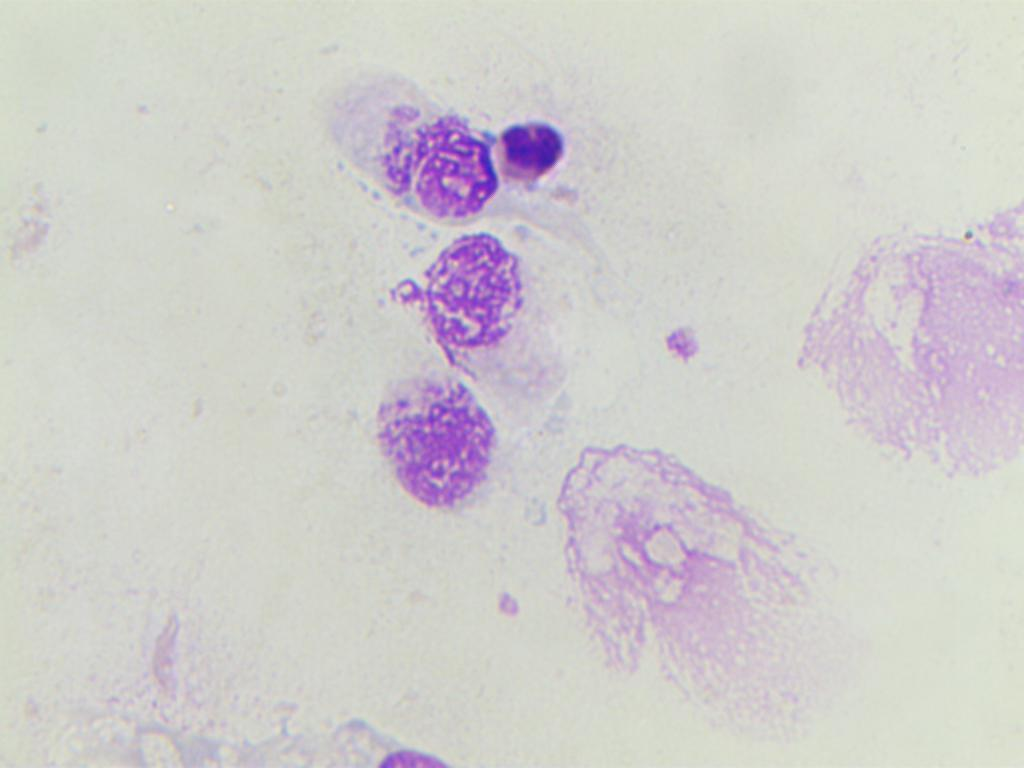epithelial: (386, 223, 579, 416), (321, 67, 499, 222), (343, 365, 513, 517)
neutrophil: (490, 109, 599, 189)
